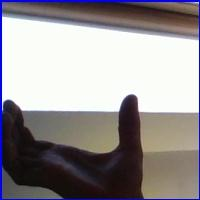space: (0, 67, 164, 193)
